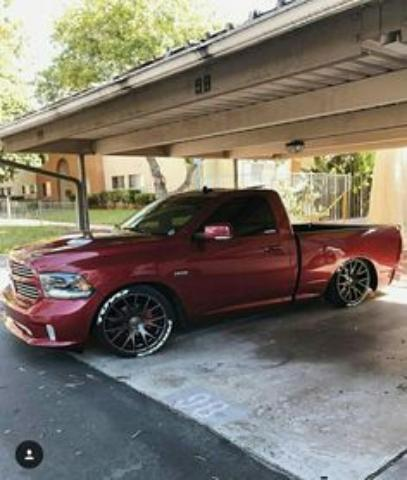pickup-truck: (1, 187, 403, 358)
